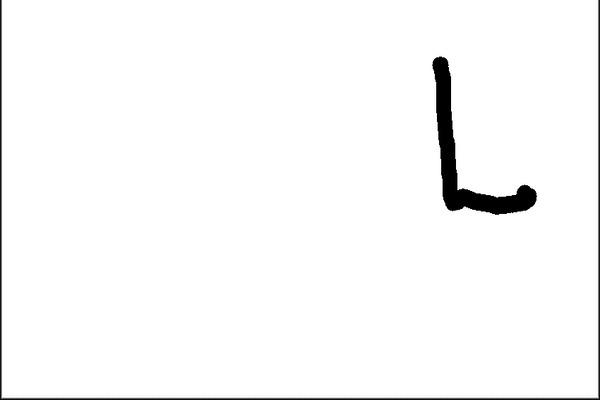L: (423, 43, 546, 221)
